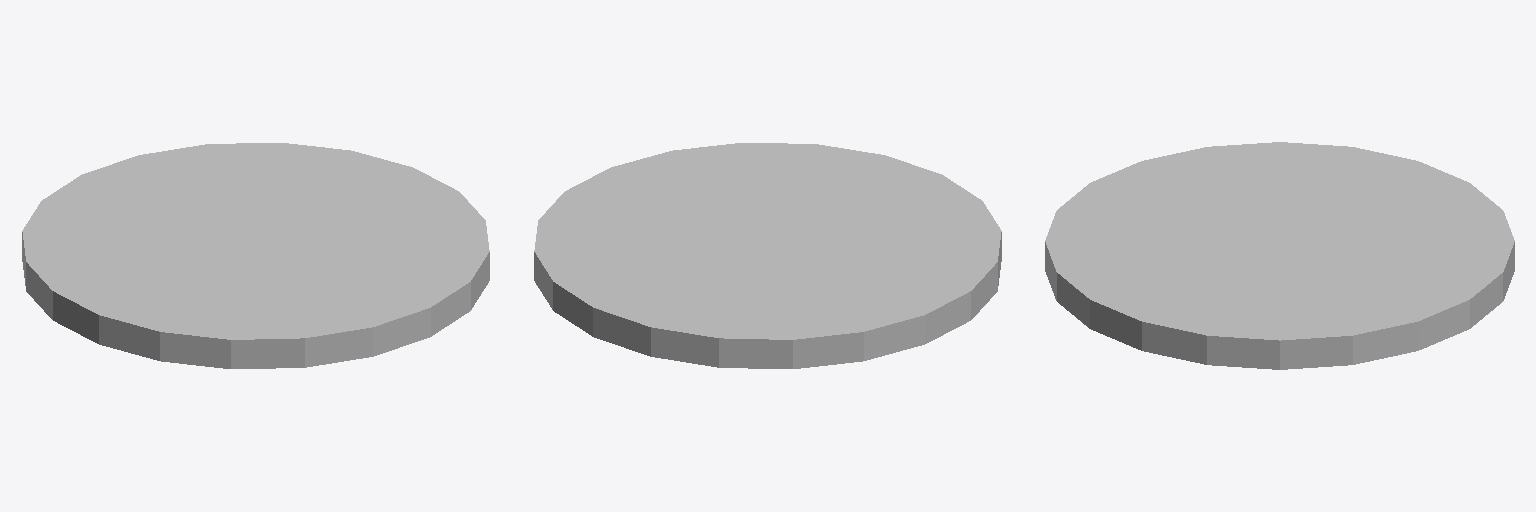
File: Patty.obj
3 views of the same model, side by side, from view 1: azimuth 30°, elevation 25°; view 2: azimuth 150°, elevation 25°; view 3: azimuth 270°, elevation 25° (orthographic).
Visible parts, largest first — view 1: Patty_Cylinder.002; view 2: Patty_Cylinder.002; view 3: Patty_Cylinder.002.
Boxes of the visible parts, x1,y1,x2,y2 form: Patty_Cylinder.002: [22, 143, 489, 368]; Patty_Cylinder.002: [534, 143, 1001, 368]; Patty_Cylinder.002: [1045, 142, 1514, 369].
Size of the model in its own units: 2 by 0.1384 by 2.